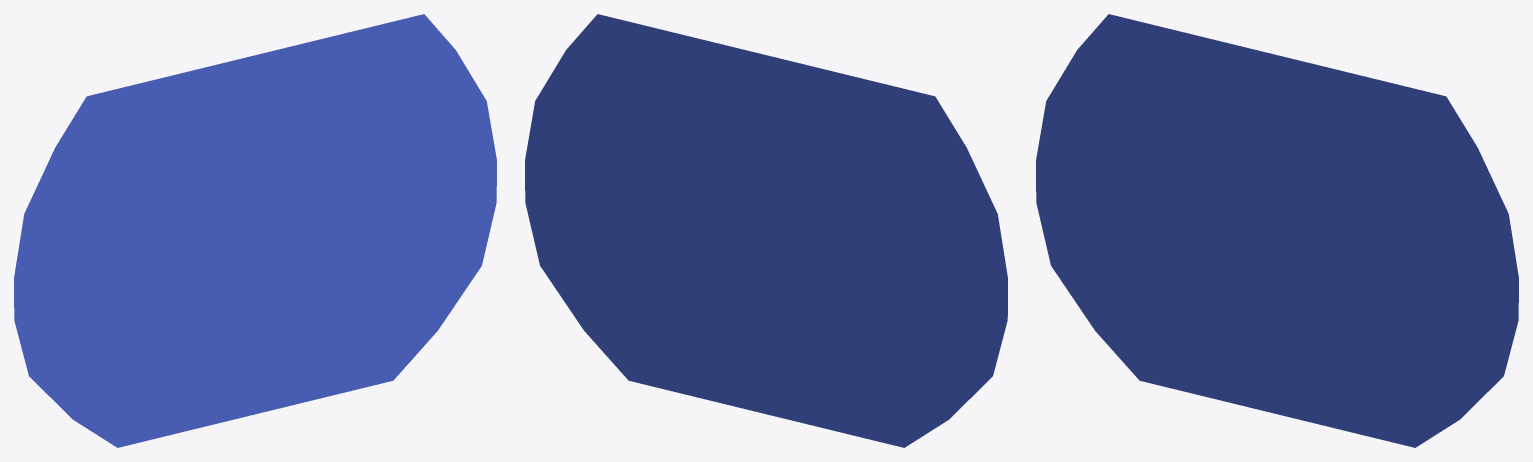
Rendered from prop_reflex.FBX.
The picture shows the model from 3 angles, left to right: view 1: azimuth 30°, elevation 25°; view 2: azimuth 150°, elevation 25°; view 3: azimuth 330°, elevation 25°; orthographic projection.
Parts seen in each view (by area): view 1: prop_M44_screen; view 2: prop_M44_screen; view 3: prop_M44_screen.
Boxes of the visible parts, x1=… form: prop_M44_screen: x1=14, y1=14, x2=496, y2=447; prop_M44_screen: x1=525, y1=14, x2=1007, y2=447; prop_M44_screen: x1=1036, y1=14, x2=1518, y2=447.
Size of the model in its own units: 0.033 by 0.0235 by 3.44e-06.
